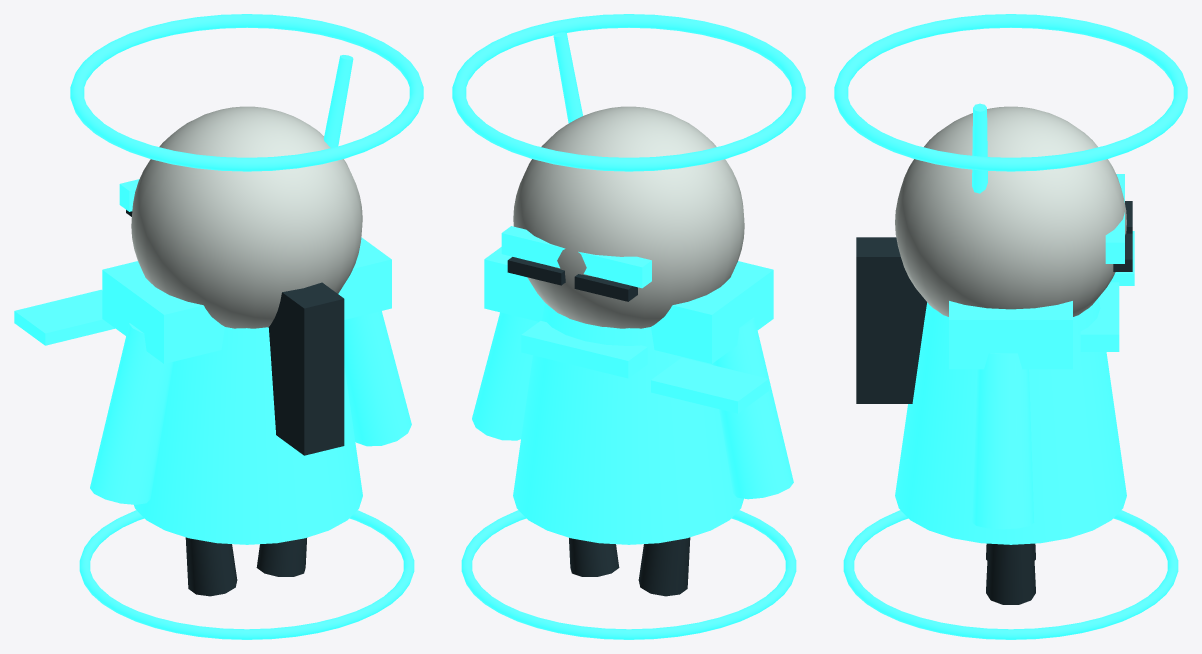
The model's file is ai-agent.glb.
The picture shows the model from 3 angles, left to right: view 1: azimuth 30°, elevation 25°; view 2: azimuth 150°, elevation 25°; view 3: azimuth 270°, elevation 25°; orthographic projection.
Parts seen in each view (by area): view 1: rj-ai-agent-character-soft-q-head, rj-ai-agent-character-body-shell, rj-ai-agent-character-rear-compute-pack, rj-ai-agent-character-head-halo, rj-ai-agent-character-shoulder-compute-rig, rj-ai-agent-character-left-arm, rj-ai-agent-character-right-arm, rj-ai-agent-character-foot-glow-ring, rj-ai-agent-character-wrist-display, rj-ai-agent-character-left-leg, rj-ai-agent-character-right-leg, rj-ai-agent-character-halo-mast; view 2: rj-ai-agent-character-body-shell, rj-ai-agent-character-soft-q-head, rj-ai-agent-character-head-halo, rj-ai-agent-character-shoulder-compute-rig, rj-ai-agent-character-left-arm, rj-ai-agent-character-foot-glow-ring, rj-ai-agent-character-right-arm, rj-ai-agent-character-wrist-display, rj-ai-agent-character-chest-status-display, rj-ai-agent-character-visor-band, rj-ai-agent-character-left-leg, rj-ai-agent-character-right-leg (+3 smaller); view 3: rj-ai-agent-character-soft-q-head, rj-ai-agent-character-body-shell, rj-ai-agent-character-head-halo, rj-ai-agent-character-rear-compute-pack, rj-ai-agent-character-right-arm, rj-ai-agent-character-shoulder-compute-rig, rj-ai-agent-character-foot-glow-ring, rj-ai-agent-character-right-leg, rj-ai-agent-character-chest-status-display, rj-ai-agent-character-halo-mast, rj-ai-agent-character-visor-band.
Part boxes in pixels (<box>): rj-ai-agent-character-soft-q-head: <box>131,106,362,328</box>; rj-ai-agent-character-body-shell: <box>134,327,362,544</box>; rj-ai-agent-character-rear-compute-pack: <box>268,282,344,455</box>; rj-ai-agent-character-head-halo: <box>70,14,423,171</box>; rj-ai-agent-character-shoulder-compute-rig: <box>102,237,391,363</box>; rj-ai-agent-character-left-arm: <box>90,323,173,504</box>; rj-ai-agent-character-right-arm: <box>344,311,411,446</box>; rj-ai-agent-character-foot-glow-ring: <box>79,510,414,639</box>; rj-ai-agent-character-wrist-display: <box>14,289,115,345</box>; rj-ai-agent-character-left-leg: <box>185,537,237,596</box>; rj-ai-agent-character-right-leg: <box>256,538,306,576</box>; rj-ai-agent-character-halo-mast: <box>323,55,353,147</box>; rj-ai-agent-character-body-shell: <box>513,303,743,544</box>; rj-ai-agent-character-soft-q-head: <box>513,106,744,328</box>; rj-ai-agent-character-head-halo: <box>452,14,805,171</box>; rj-ai-agent-character-shoulder-compute-rig: <box>484,247,773,363</box>; rj-ai-agent-character-left-arm: <box>711,317,793,499</box>; rj-ai-agent-character-foot-glow-ring: <box>461,510,796,639</box>; rj-ai-agent-character-right-arm: <box>472,312,537,440</box>; rj-ai-agent-character-wrist-display: <box>651,357,768,413</box>; rj-ai-agent-character-chest-status-display: <box>521,321,647,378</box>; rj-ai-agent-character-visor-band: <box>501,226,651,288</box>; rj-ai-agent-character-left-leg: <box>638,537,690,596</box>; rj-ai-agent-character-right-leg: <box>569,538,619,576</box>; rj-ai-agent-character-soft-q-head: <box>895,106,1126,316</box>; rj-ai-agent-character-body-shell: <box>895,298,1126,544</box>; rj-ai-agent-character-head-halo: <box>834,14,1187,171</box>; rj-ai-agent-character-rear-compute-pack: <box>856,237,926,403</box>; rj-ai-agent-character-right-arm: <box>972,353,1034,529</box>; rj-ai-agent-character-shoulder-compute-rig: <box>949,301,1072,369</box>; rj-ai-agent-character-foot-glow-ring: <box>843,510,1178,639</box>; rj-ai-agent-character-right-leg: <box>986,543,1035,604</box>; rj-ai-agent-character-chest-status-display: <box>1080,282,1119,351</box>; rj-ai-agent-character-halo-mast: <box>972,103,987,193</box>; rj-ai-agent-character-visor-band: <box>1105,174,1124,263</box>.
Size of the model in its own units: 0.9783 by 1.46 by 0.9134.
